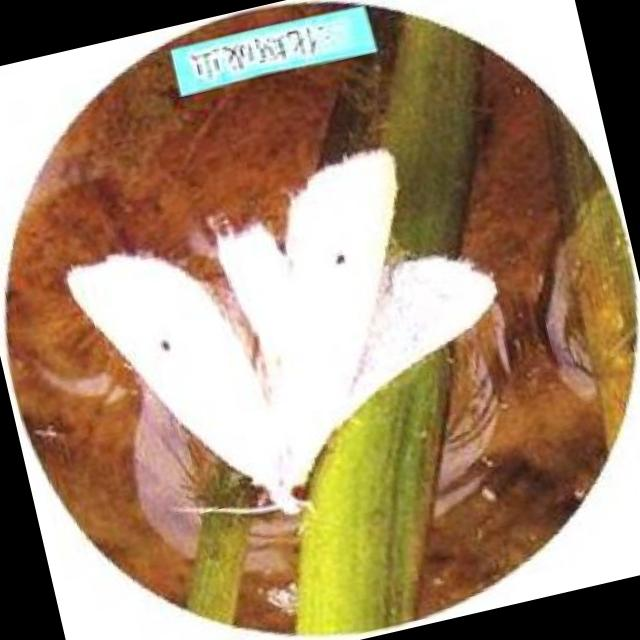stem-borer: (67, 147, 500, 516)
